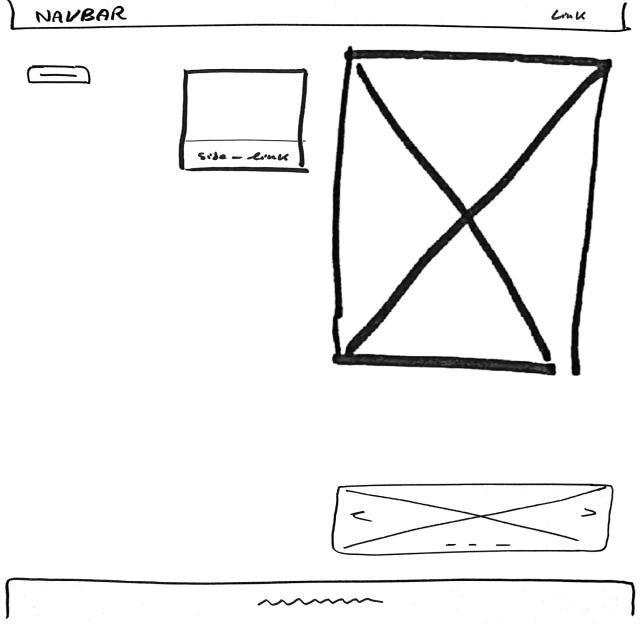container: (6, 1, 632, 32), (178, 68, 308, 173)
icon-button: (24, 64, 93, 86)
image: (334, 49, 608, 377), (328, 484, 615, 557)
label: (31, 6, 129, 25), (197, 152, 293, 164), (549, 10, 592, 23)
text: (254, 598, 386, 610)
